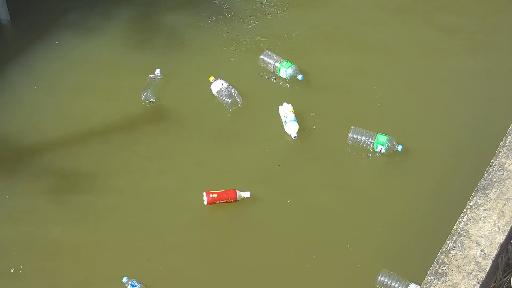plastic: (340, 122, 406, 158), (202, 76, 255, 117), (255, 46, 310, 83), (127, 65, 166, 108), (373, 266, 440, 288), (270, 98, 305, 139), (194, 187, 261, 208), (117, 272, 157, 287)
